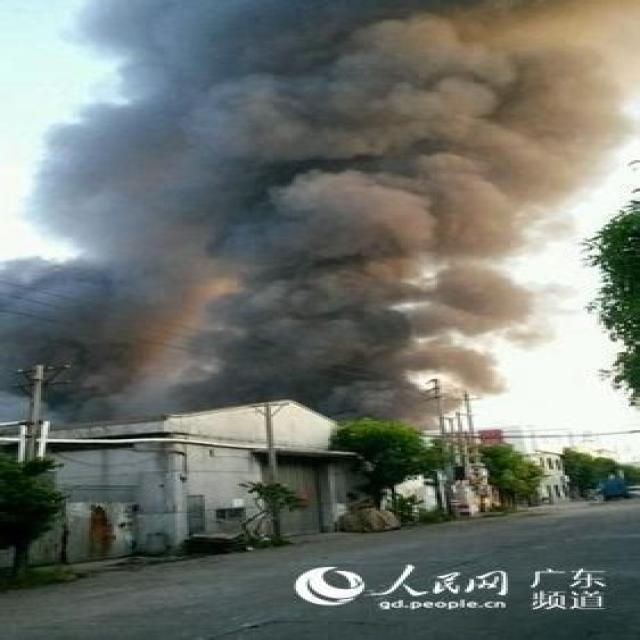Smoke: (0, 0, 640, 431)
